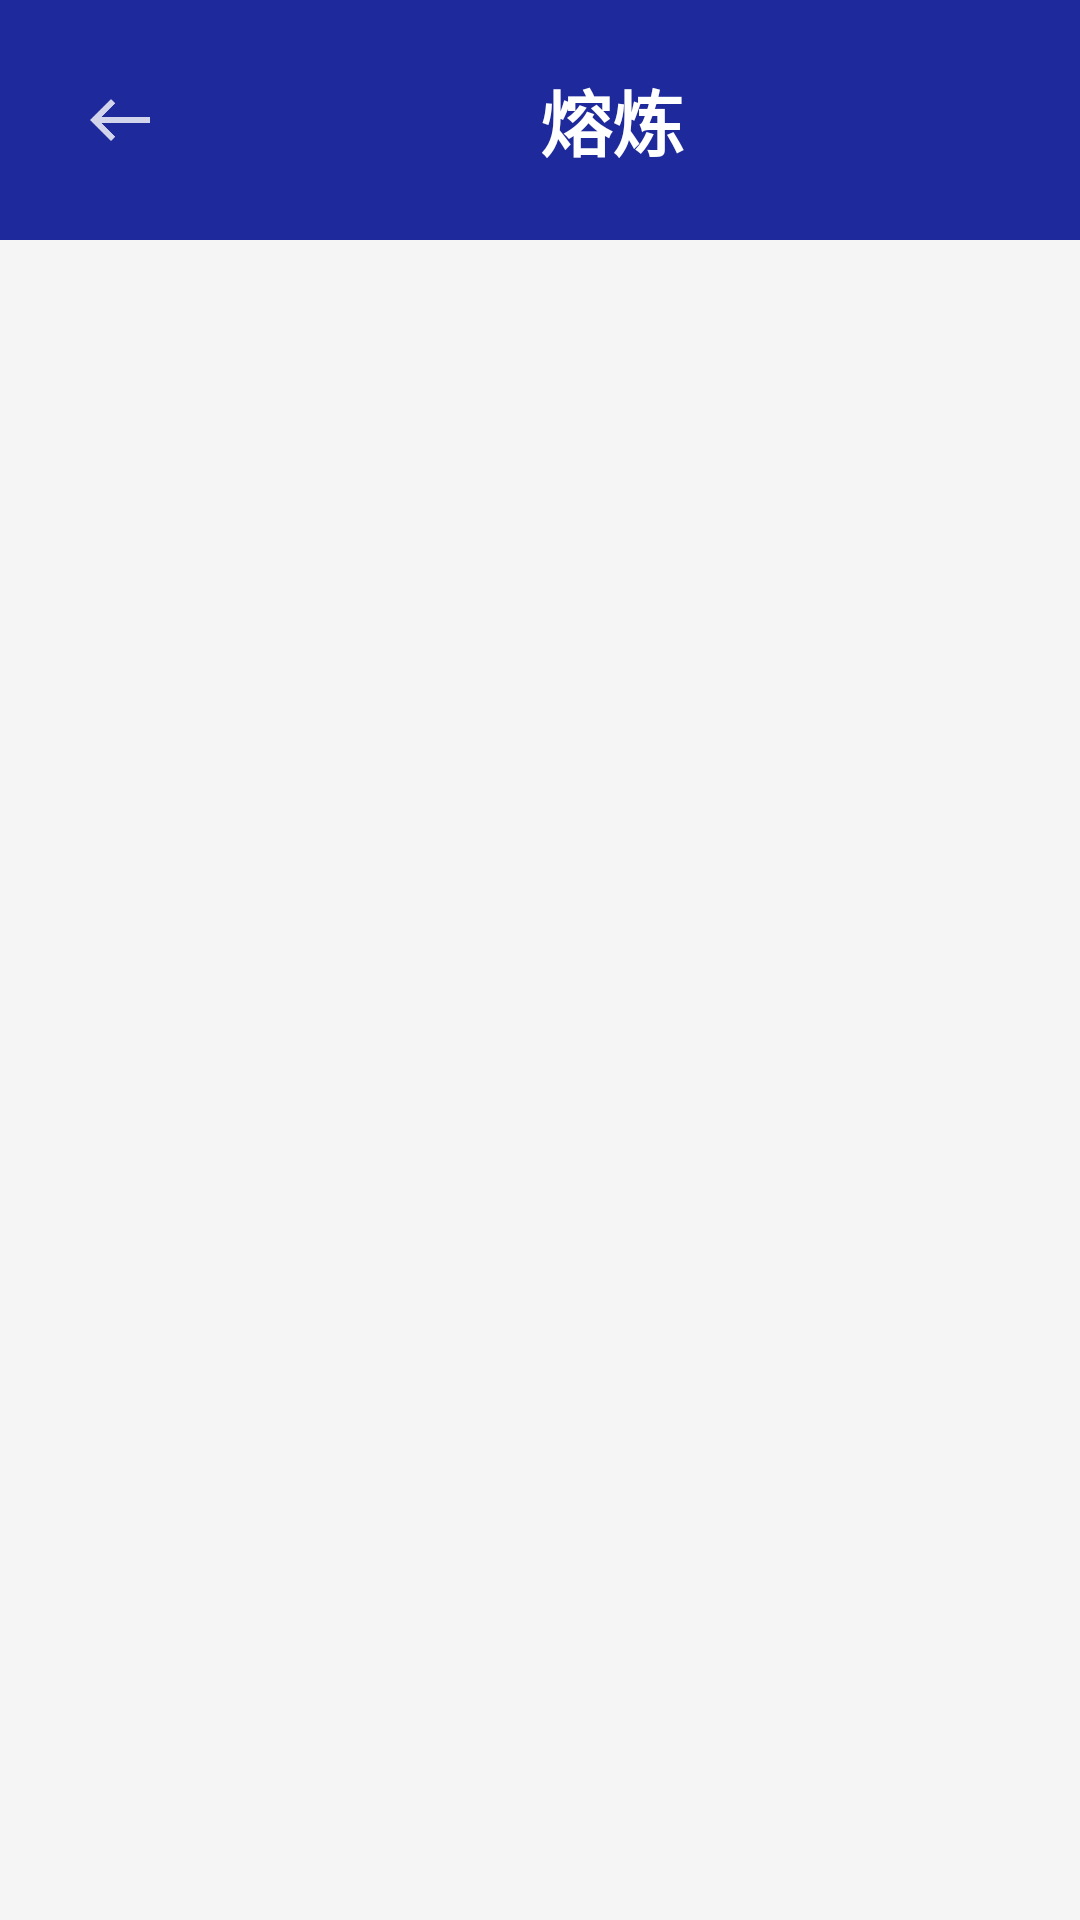

Icons on this 1080 × 1920 Android screen, each with its box as [x1, y1, x2, y2]:
返回: [90, 99, 150, 141]
